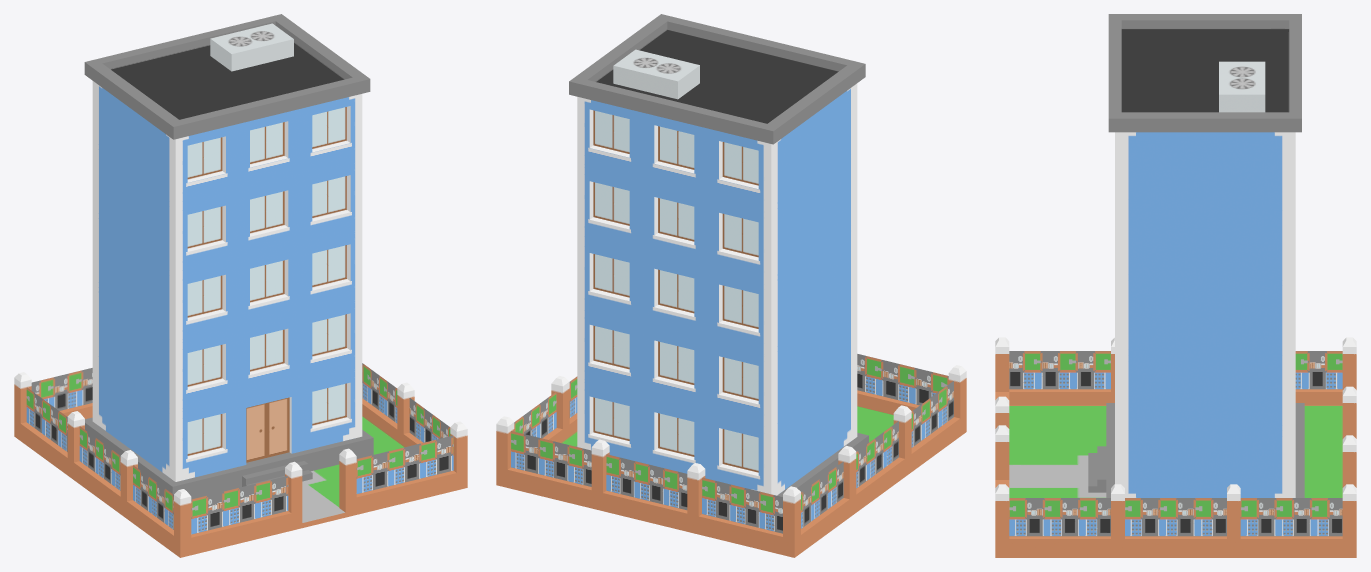
File: Building2.glb
3 renders of one model, left to right at view 1: azimuth 30°, elevation 25°; view 2: azimuth 150°, elevation 25°; view 3: azimuth 270°, elevation 25°, orthographic. The views are drawn at different scales.
Parts seen in each view (by area): view 1: Box053, Plane001, Object001; view 2: Box053, Plane001, Object001; view 3: Box053, Plane001, Object001.
Boxes of the visible parts, bbox=[...] form: Box053: bbox=[14, 14, 467, 557]; Plane001: bbox=[26, 363, 453, 534]; Object001: bbox=[14, 372, 467, 540]; Box053: bbox=[496, 14, 966, 557]; Plane001: bbox=[511, 354, 953, 533]; Object001: bbox=[496, 365, 966, 539]; Box053: bbox=[995, 14, 1356, 557]; Plane001: bbox=[1009, 351, 1342, 536]; Object001: bbox=[995, 337, 1356, 538].
Size of the model in its own units: 6 by 7.8 by 6.
1 material, 1 textured.
